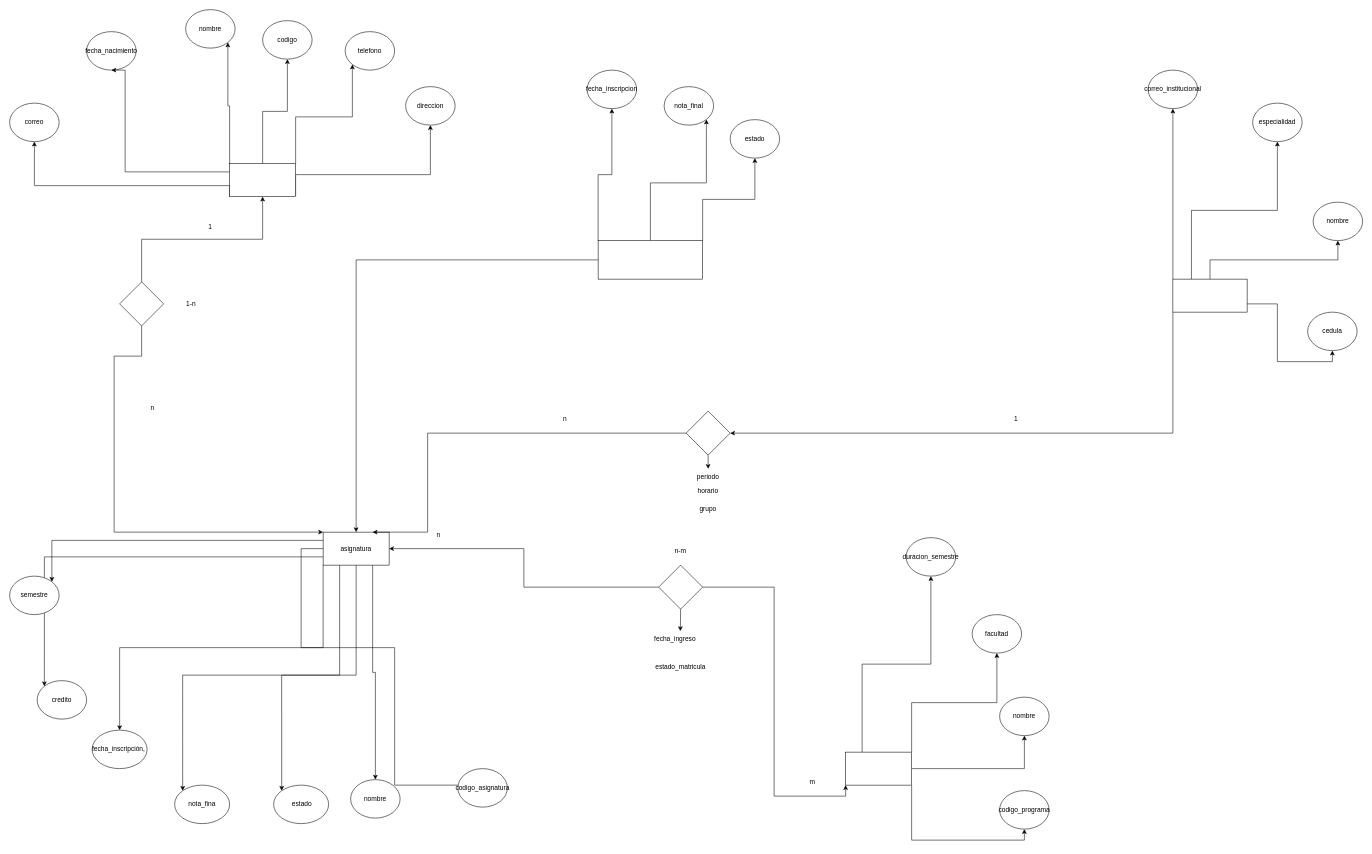
The diagram is 1372 pixels wide and 854 high, and some of its shapes have lost their labels. Here are the shapes that lost their labels. From the top down, the box of each, then its label:
(229, 163, 296, 197): estudiante
(598, 240, 703, 279): inscripcion
(119, 281, 164, 326): cursa
(1172, 279, 1247, 312): profesor
(686, 411, 730, 455): dicta
(658, 565, 703, 609): pertenece
(845, 752, 912, 785): programa
